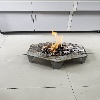fire: (43, 30, 68, 55), (74, 46, 75, 47)
